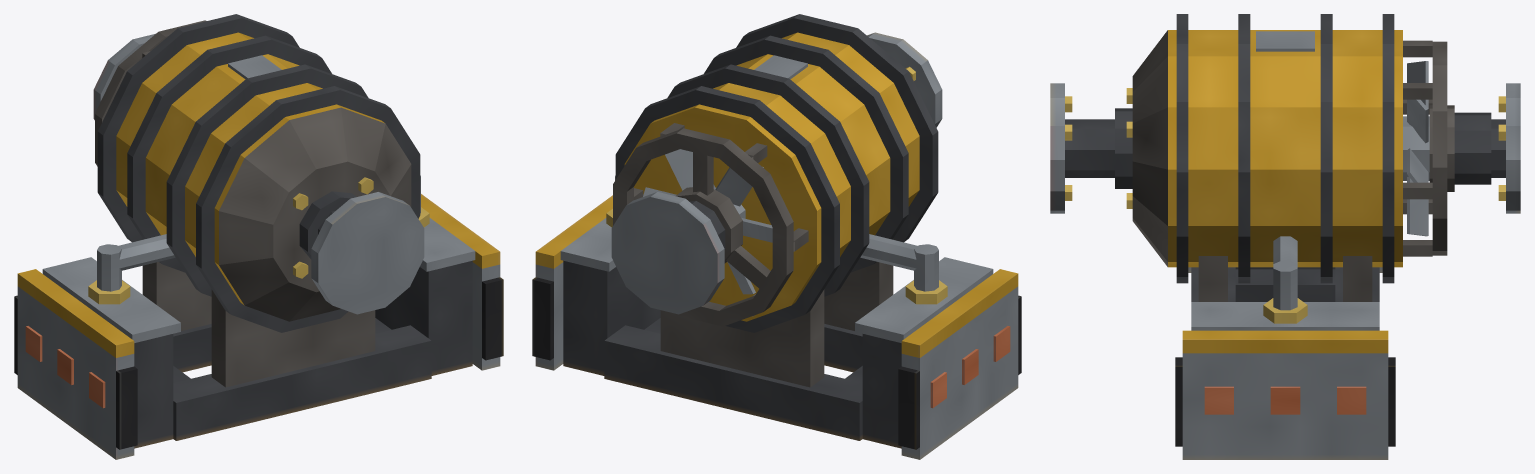
File: shaftgen4kw.obj
The picture shows the model from 3 angles, left to right: view 1: azimuth 30°, elevation 25°; view 2: azimuth 150°, elevation 25°; view 3: azimuth 270°, elevation 25°; orthographic projection. The views are drawn at different scales.
Visible parts, largest first — view 1: main, rotor; view 2: main, rotor; view 3: main, rotor.
Boxes of the visible parts, x1,y1,x2,y2 form: main: [14, 14, 503, 459]; rotor: [93, 33, 424, 314]; main: [532, 14, 1021, 459]; rotor: [611, 32, 942, 314]; main: [1115, 14, 1491, 459]; rotor: [1050, 61, 1520, 236].
Size of the model in its own units: 1 by 0.7807 by 1.
Materials: 1 (1 with a texture image).
